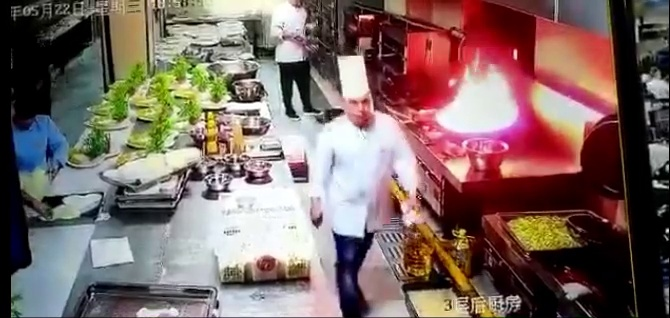fire: (439, 45, 520, 132)
